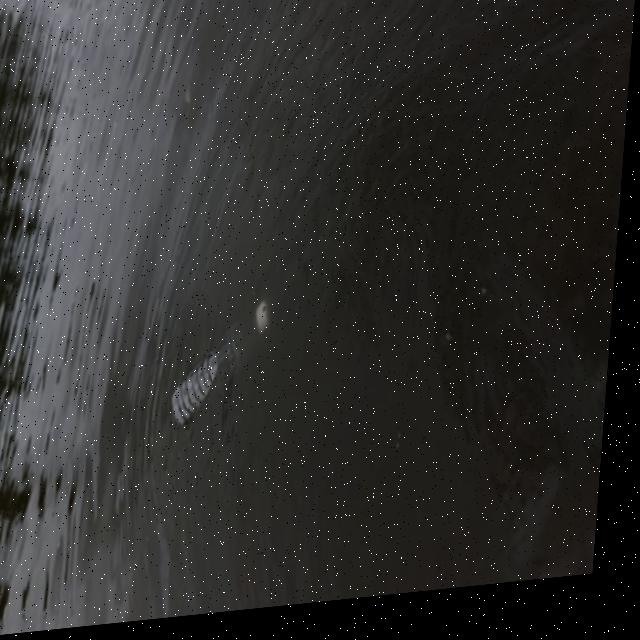waterbottle: (179, 306, 295, 447)
